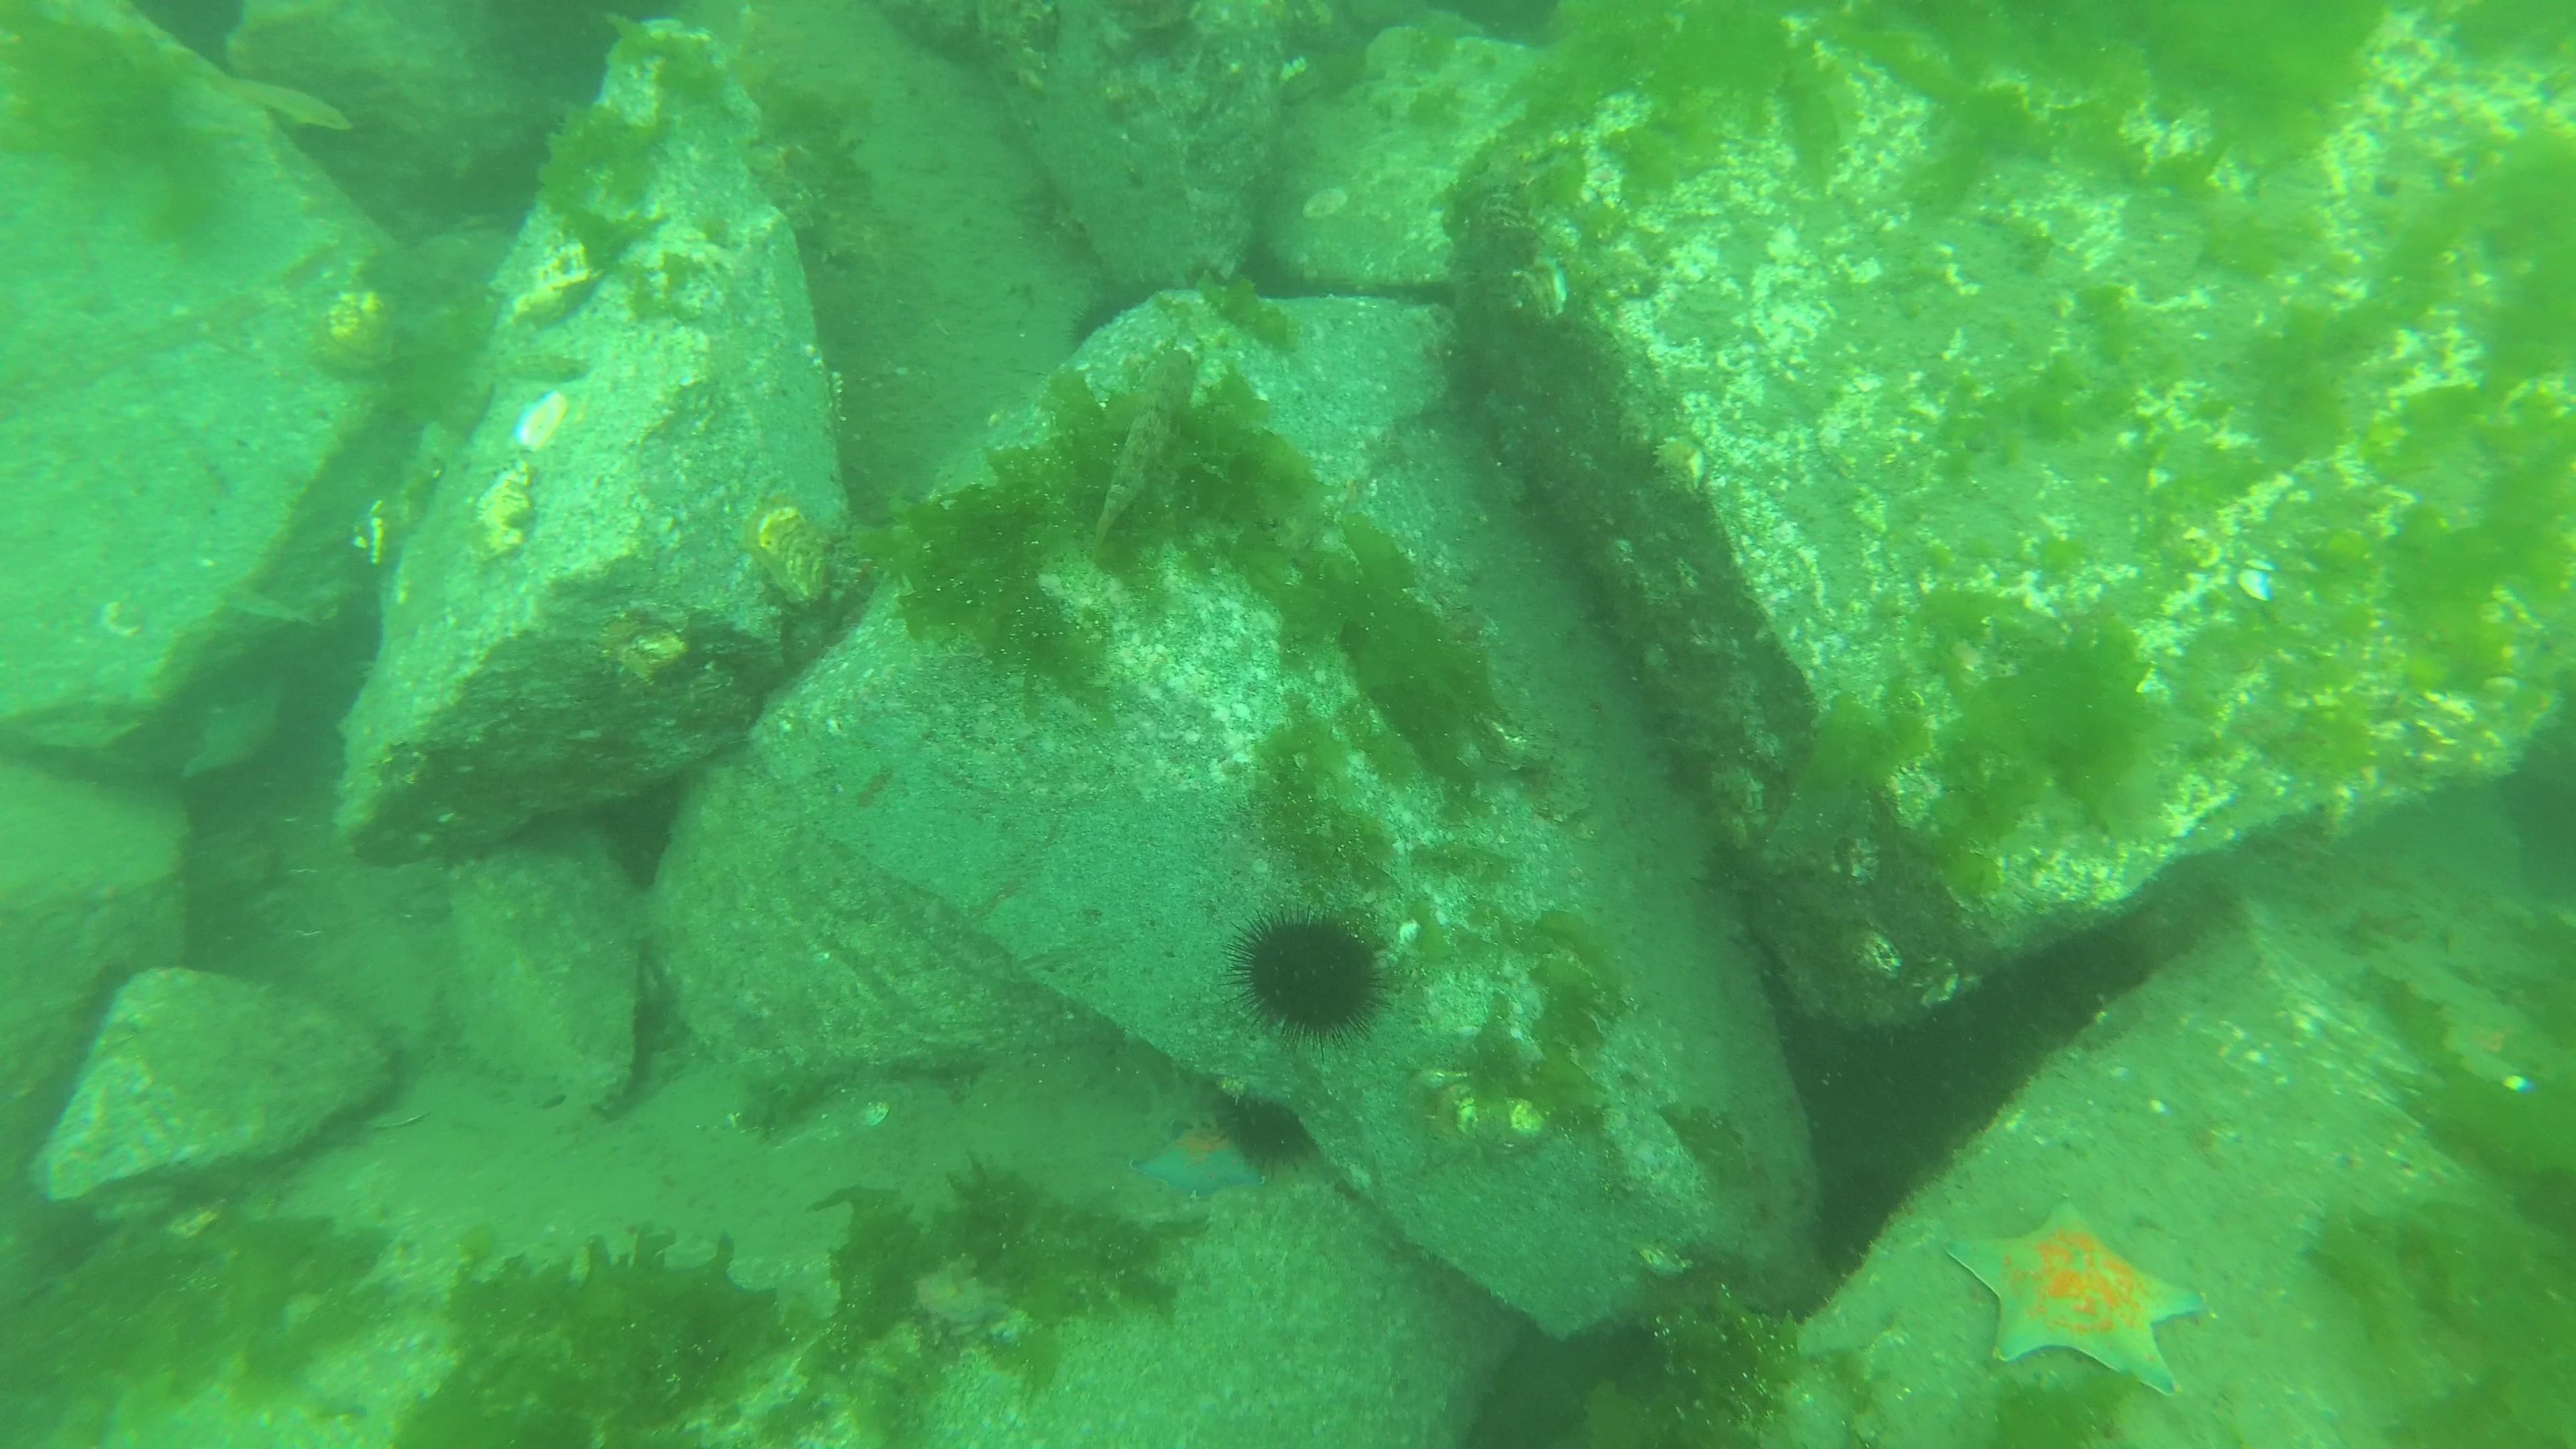echinus: (1214, 906, 1399, 1063), (2035, 924, 2148, 1024), (1813, 1164, 1897, 1279), (449, 136, 556, 225), (1212, 1099, 1316, 1184), (1065, 290, 1150, 352)
holothurian: (909, 1253, 1014, 1327), (1132, 1067, 1235, 1132)
starfish: (1939, 1191, 2212, 1401), (1123, 1125, 1272, 1207), (177, 683, 288, 782)
